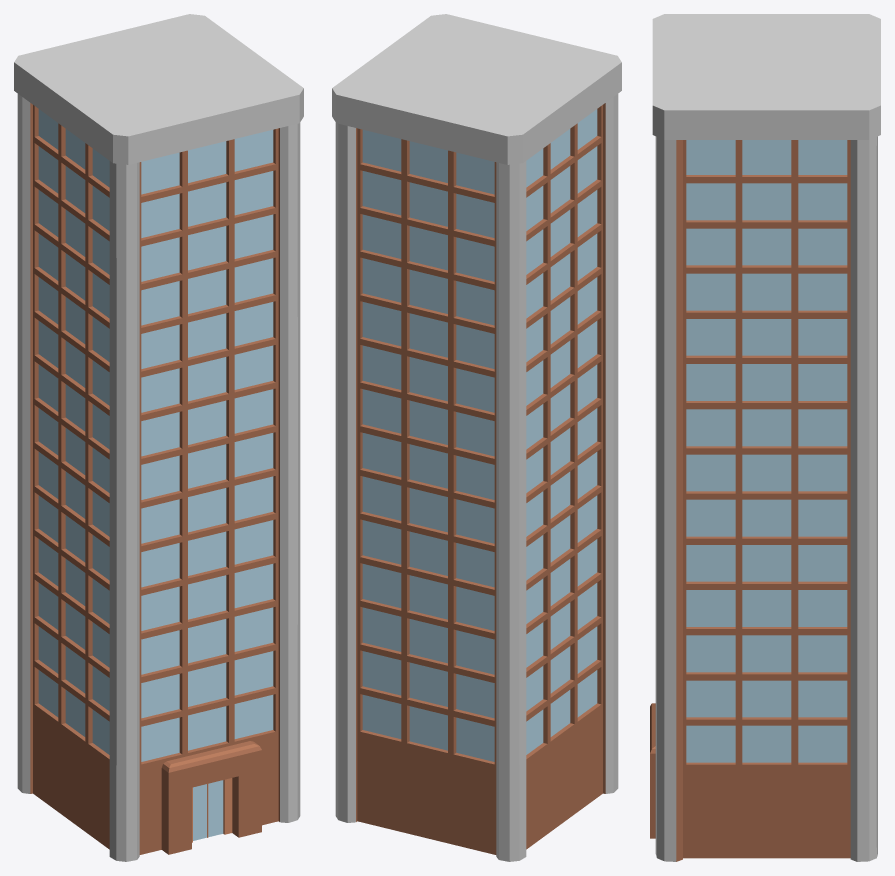
The model's file is skyscraperD.fbx.
3 renders of one model, left to right at view 1: azimuth 30°, elevation 25°; view 2: azimuth 150°, elevation 25°; view 3: azimuth 270°, elevation 25°, orthographic. The views are drawn at different scales.
Visible parts, largest first — view 1: SkyscraperD; view 2: SkyscraperD; view 3: SkyscraperD.
Part boxes in pixels (x1,y1,x2,y2): SkyscraperD: [14, 14, 303, 861]; SkyscraperD: [332, 14, 621, 861]; SkyscraperD: [650, 14, 880, 861].
Bounding box in the file's own units: 1289 × 4693 × 1305.
